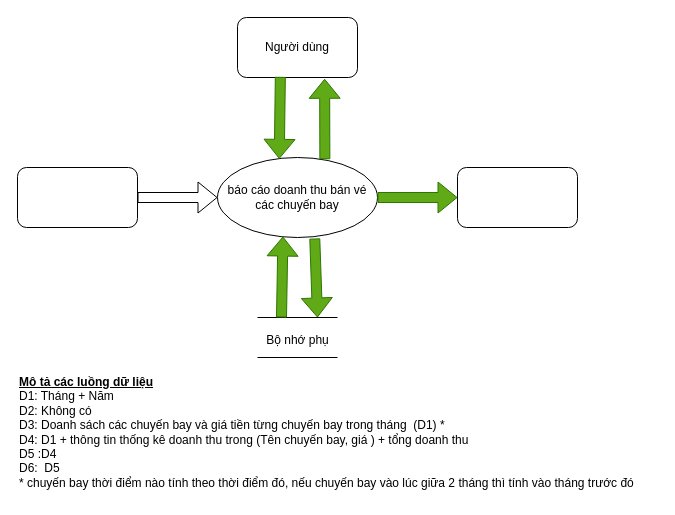
This 675x515 diagram has some shape labels left out. The centre of each missing label's shape, as x and y in pixels:
"Tb nhập" goes at (77,197).
"Tb xuất" goes at (517,197).
